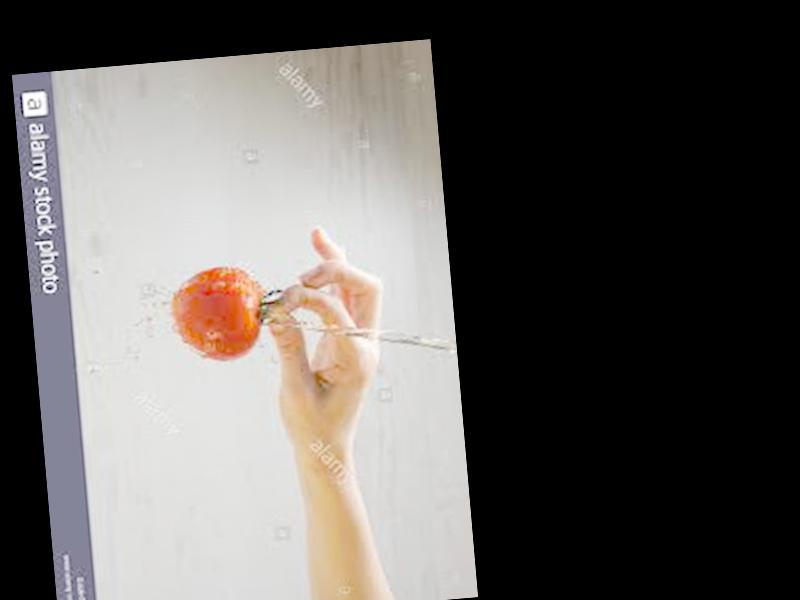Tomato: (166, 266, 266, 368)
